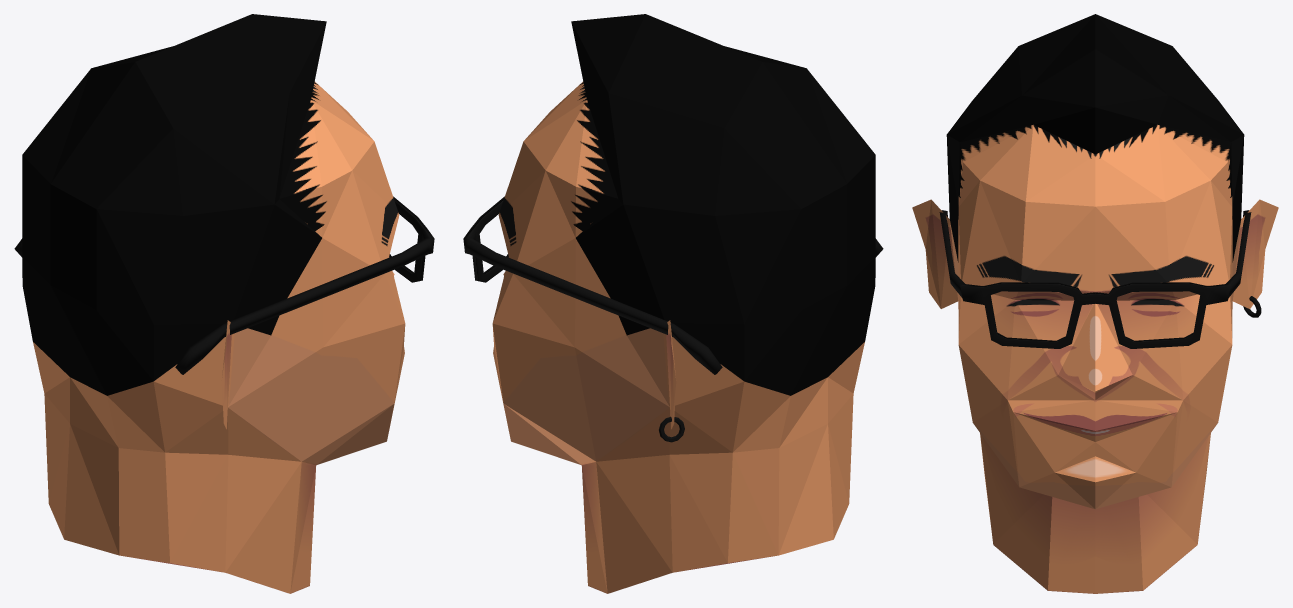
The model's file is ricardo.dae.
The picture shows the model from 3 angles, left to right: view 1: azimuth 30°, elevation 25°; view 2: azimuth 150°, elevation 25°; view 3: azimuth 270°, elevation 25°; orthographic projection. The views are drawn at different scales.
Parts seen in each view (by area): view 1: Cube, Cube_001; view 2: Cube, Cube_001; view 3: Cube, Cube_001.
Boxes of the visible parts, x1,y1,x2,y2 form: Cube: [22, 14, 405, 593]; Cube_001: [14, 196, 434, 374]; Cube: [492, 14, 875, 593]; Cube_001: [463, 196, 883, 374]; Cube: [912, 14, 1278, 593]; Cube_001: [939, 210, 1251, 348].
Size of the model in its own units: 2.27 by 2.23 by 3.56.
Materials: 3 (1 with a texture image).
